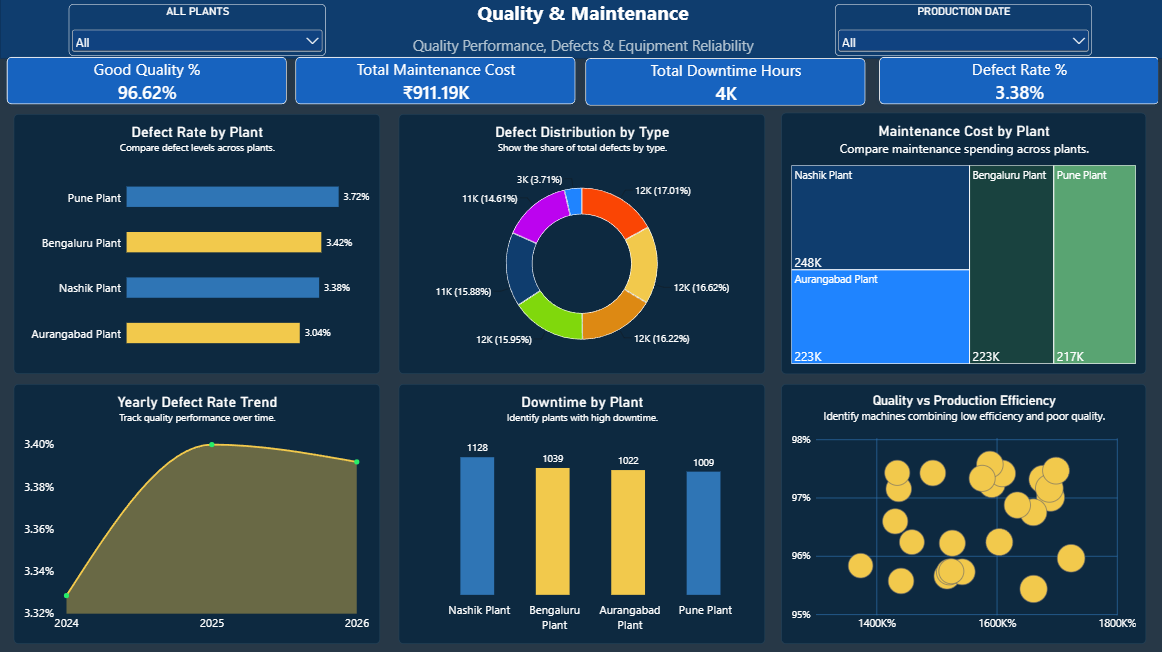

Layout of this report page (visuals, bound fields, positions):
{"tool":"powerbi","page":{"name":"Quality & Maintenance","canvas":[1920,1080],"ordinal":2},"visuals":[{"type":"shape","box":[0,0,1920.4,98],"z":0},{"type":"textbox","box":[0,0,1920.4,98.8],"z":1000,"group":"g1"},{"type":"cardVisual","fields":{"Data":["Manufacturing_Production_Analytics_5000_Clean.Good Quality %"]},"box":[0,84.8,483.1,100],"z":2000,"group":"g1"},{"type":"cardVisual","fields":{"Data":["Manufacturing_Production_Analytics_5000_Clean.Total Maintenance Cost"]},"box":[475.5,84.8,483.1,100],"z":3000,"group":"g1"},{"type":"cardVisual","fields":{"Data":["Manufacturing_Production_Analytics_5000_Clean.Total Downtime Hours"]},"box":[953.1,86.9,483.1,100],"z":4000,"group":"g1"},{"type":"cardVisual","fields":{"Data":["Manufacturing_Production_Analytics_5000_Clean.Defect Rate %"]},"box":[1436.9,84.8,483.1,100],"z":5000,"group":"g1"},{"type":"clusteredBarChart","title":"Defect Rate by Plant","fields":{"Category":["Manufacturing_Production_Analytics_5000_Clean.Plant"],"Y":["Manufacturing_Production_Analytics_5000_Clean.Defect Rate %"]},"box":[22.6,188.8,603.1,428.4],"z":6000,"group":"g1"},{"type":"donutChart","title":"Defect Distribution by Type","fields":{"Category":["Manufacturing_Production_Analytics_5000_Clean.Defect_Type"],"Y":["Sum(Manufacturing_Production_Analytics_5000_Clean.Units_Defective)"]},"box":[656.9,188.8,603.1,428.4],"z":7000,"group":"g1"},{"type":"lineChart","title":"Yearly Defect Rate Trend","fields":{"Y":["Manufacturing_Production_Analytics_5000_Clean.Defect Rate %"],"Category":["Manufacturing_Production_Analytics_5000_Clean.Production_Date.Variation.Date Hierarchy.Year"]},"box":[22.6,633.8,603.1,428.4],"z":8000,"group":"g1"},{"type":"columnChart","title":"Downtime by Plant","fields":{"Y":["Manufacturing_Production_Analytics_5000_Clean.Total Downtime Hours"],"Category":["Manufacturing_Production_Analytics_5000_Clean.Plant"]},"box":[656.9,633.6,603.1,428.4],"z":9000,"group":"g1"},{"type":"treemap","title":"Maintenance Cost by Plant","fields":{"Group":["Manufacturing_Production_Analytics_5000_Clean.Plant"],"Values":["Sum(Manufacturing_Production_Analytics_5000_Clean.Maintenance_Cost)"]},"box":[1286.6,186.7,601.1,430.5],"z":10000,"group":"g1"},{"type":"scatterChart","title":"Quality vs Production Efficiency","fields":{"Category":["Manufacturing_Production_Analytics_5000_Clean.Machine_ID"],"X":["Sum(Manufacturing_Production_Analytics_5000_Clean.Production_Efficiency_Percent)"],"Y":["Manufacturing_Production_Analytics_5000_Clean.Good Quality %"],"Size":["Sum(Manufacturing_Production_Analytics_5000_Clean.Units_Produced)"]},"box":[1286.7,633.6,601.1,428.4],"z":11000,"group":"g1"},{"type":"slicer","title":"PRODUCTION DATE","fields":{"Values":["Manufacturing_Production_Analytics_5000_Clean.Production_Date.Variation.Date Hierarchy.Year","Manufacturing_Production_Analytics_5000_Clean.Production_Date.Variation.Date Hierarchy.Month","Manufacturing_Production_Analytics_5000_Clean.Production_Date.Variation.Date Hierarchy.Day"]},"box":[1375.6,7.4,423.3,85.5],"z":12000,"group":"g1"},{"type":"slicer","title":"ALL PLANTS","fields":{"Values":["Manufacturing_Production_Analytics_5000_Clean.Plant"]},"box":[112.2,7.4,423.1,85.9],"z":13000,"group":"g1"},{"type":"group","id":"g1","title":"Group 1","box":[0,0,1920.4,1062.2],"z":13001}]}

Visuals, with their boxes in screenshot pixels (x1, y1, x2, y2), scaled from the page's 1920x1080 canvas onto the 1162x652 screenshot:
shape: (left=0, top=0, right=1161, bottom=59)
textbox: (left=0, top=0, right=1161, bottom=60)
cardVisual - Manufacturing_Production_Analytics_5000_Clean.Good Quality %: (left=0, top=51, right=292, bottom=112)
cardVisual - Manufacturing_Production_Analytics_5000_Clean.Total Maintenance Cost: (left=288, top=51, right=580, bottom=112)
cardVisual - Manufacturing_Production_Analytics_5000_Clean.Total Downtime Hours: (left=577, top=52, right=869, bottom=113)
cardVisual - Manufacturing_Production_Analytics_5000_Clean.Defect Rate %: (left=870, top=51, right=1161, bottom=112)
"Defect Rate by Plant" clusteredBarChart: (left=14, top=114, right=379, bottom=373)
"Defect Distribution by Type" donutChart: (left=398, top=114, right=763, bottom=373)
"Yearly Defect Rate Trend" lineChart: (left=14, top=383, right=379, bottom=641)
"Downtime by Plant" columnChart: (left=398, top=383, right=763, bottom=641)
"Maintenance Cost by Plant" treemap: (left=779, top=113, right=1142, bottom=373)
"Quality vs Production Efficiency" scatterChart: (left=779, top=383, right=1143, bottom=641)
"PRODUCTION DATE" slicer: (left=833, top=4, right=1089, bottom=56)
"ALL PLANTS" slicer: (left=68, top=4, right=324, bottom=56)
"Group 1" group: (left=0, top=0, right=1161, bottom=641)
